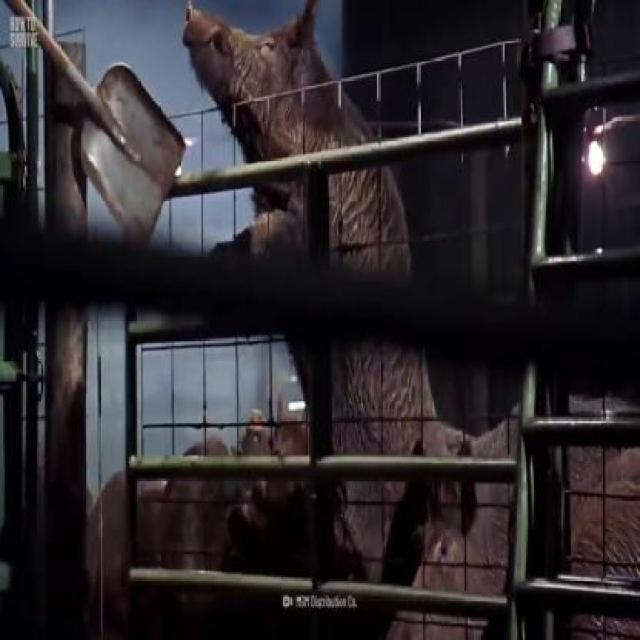Boar: (158, 0, 487, 638)
